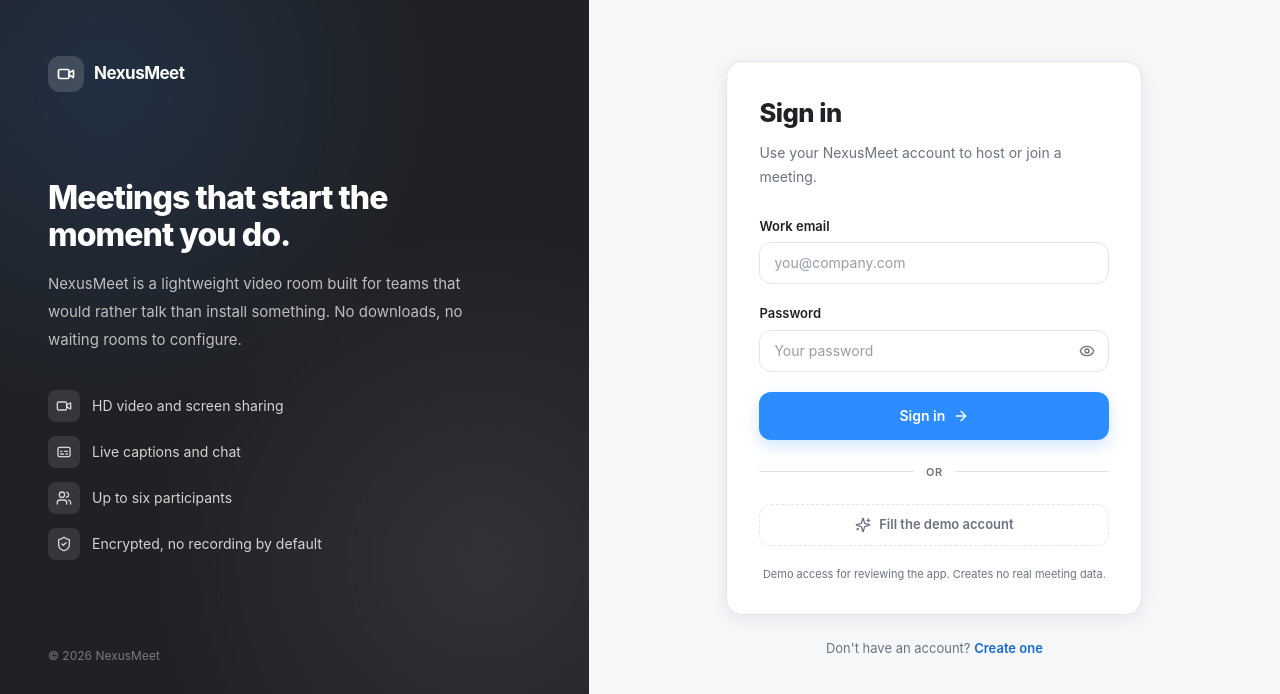
Test: SignInForm › blocks submit when the password is shorter than the API minimum
The image size is (1280, 694).
Type "demo@nexusmeet.app" into the field labelled "Work email". click: (934, 263)
box: [759,242,1109,284]
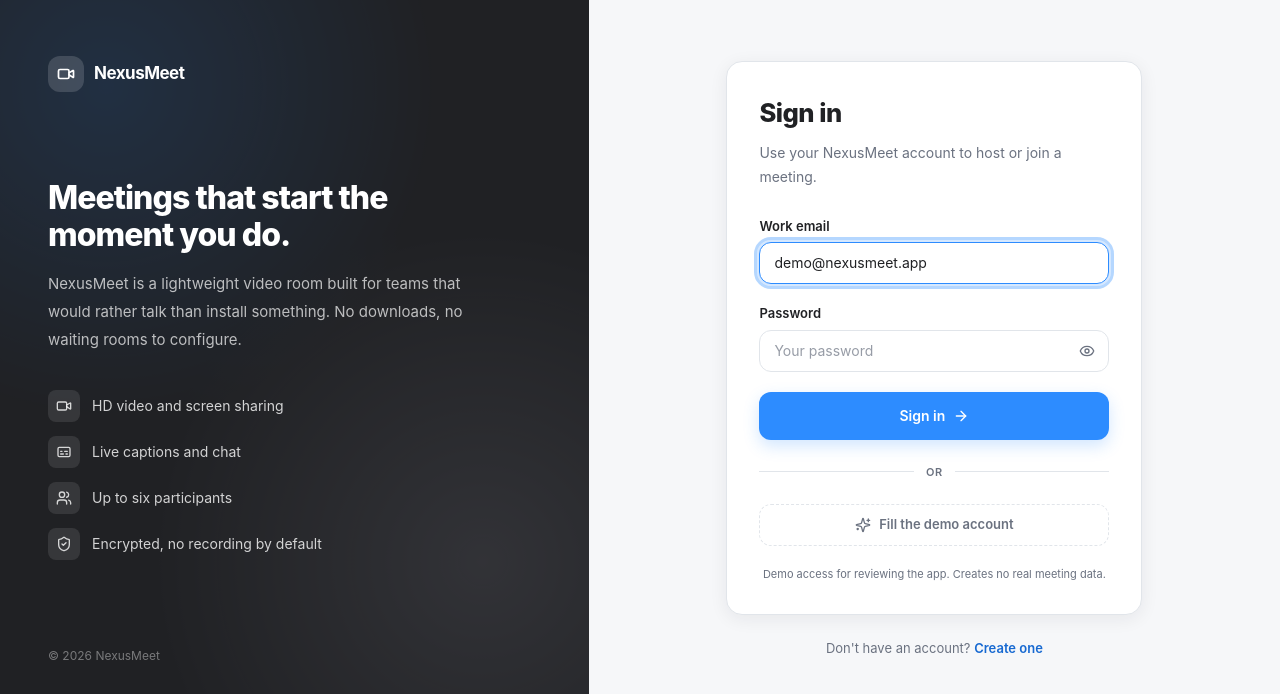
Type "short" into the password field labelled "Password". click: (934, 351)
box: [759,330,1109,372]
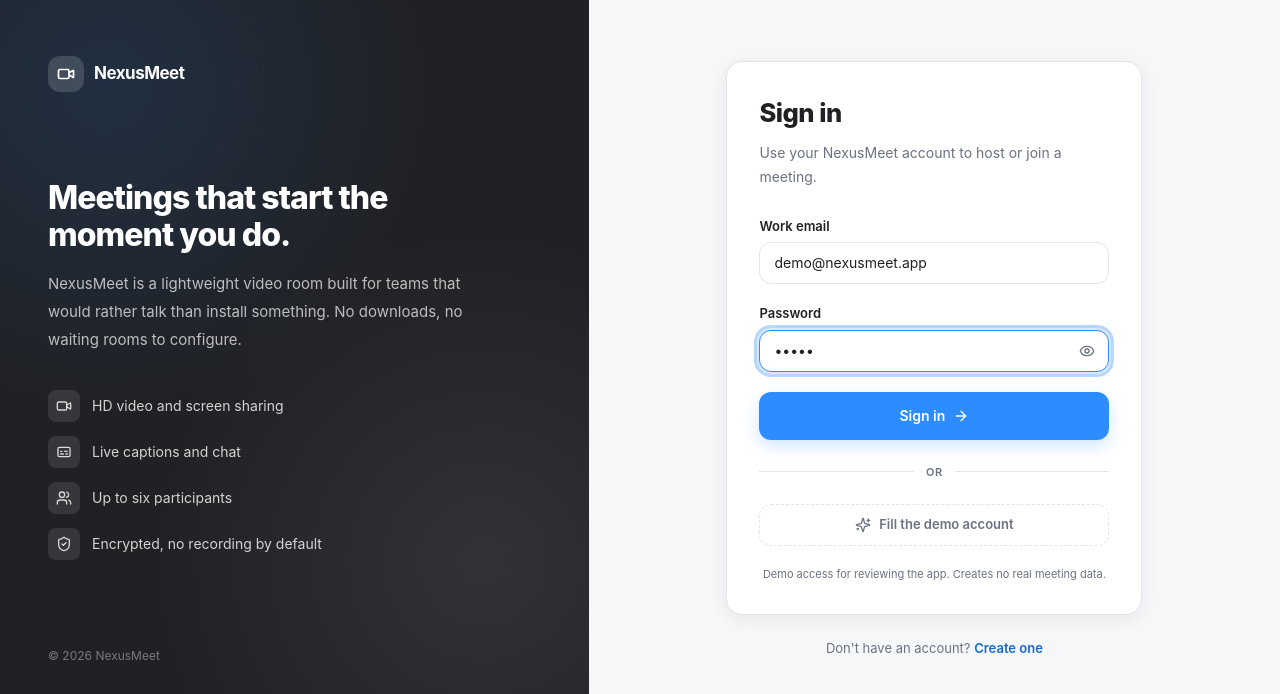
Click the button "Sign in". click: (934, 416)
box: [759,392,1109,440]
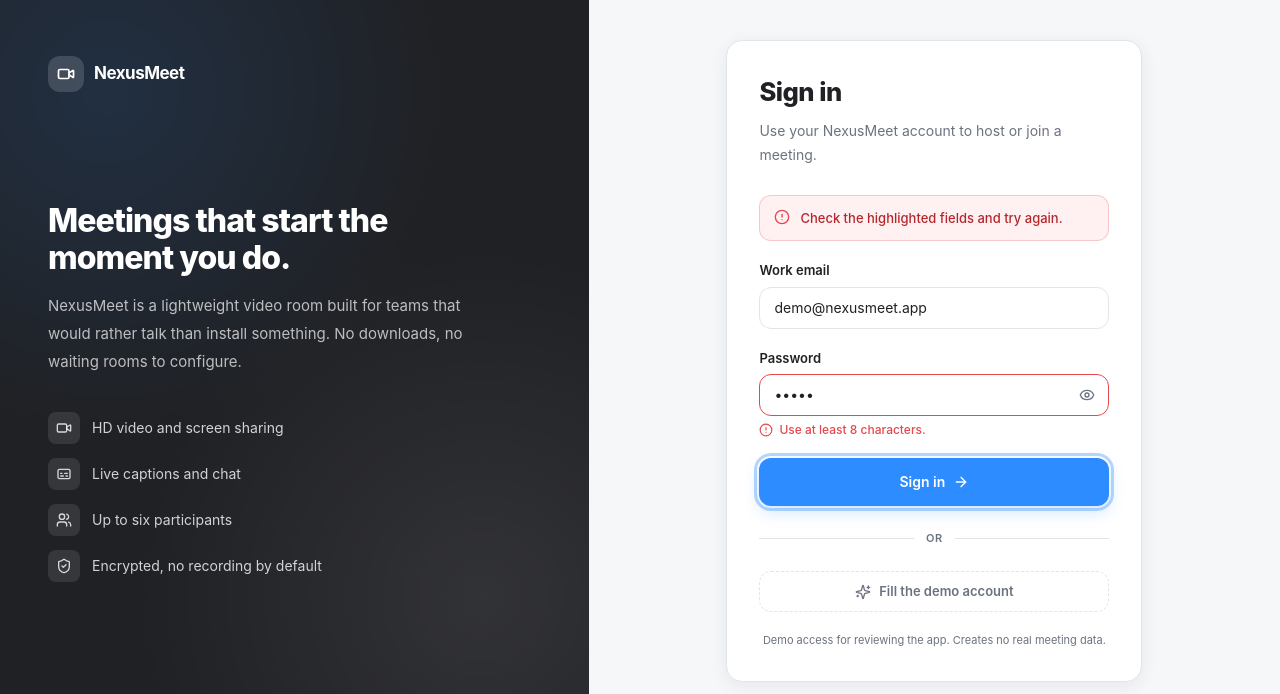
Check: the text "Use at least 8 characters." is shown, box [779,422,926,438]
